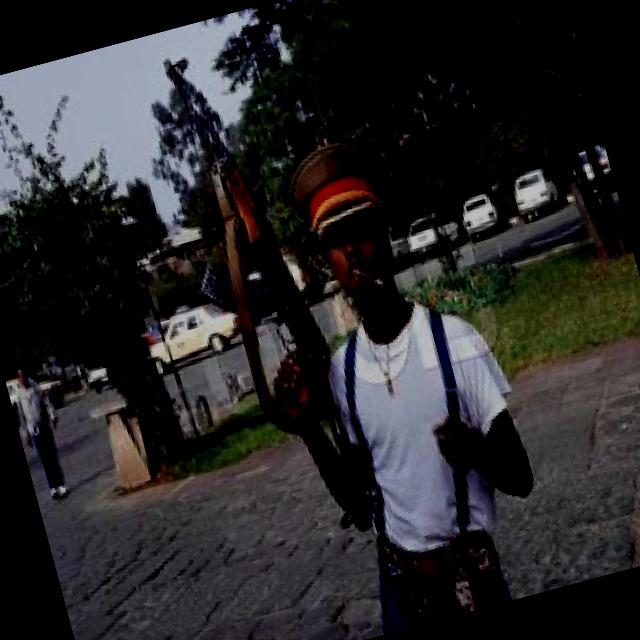long weapon: (138, 36, 384, 584)
